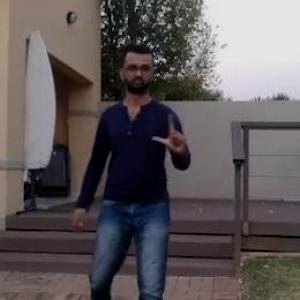land_hand: (149, 106, 191, 159)
